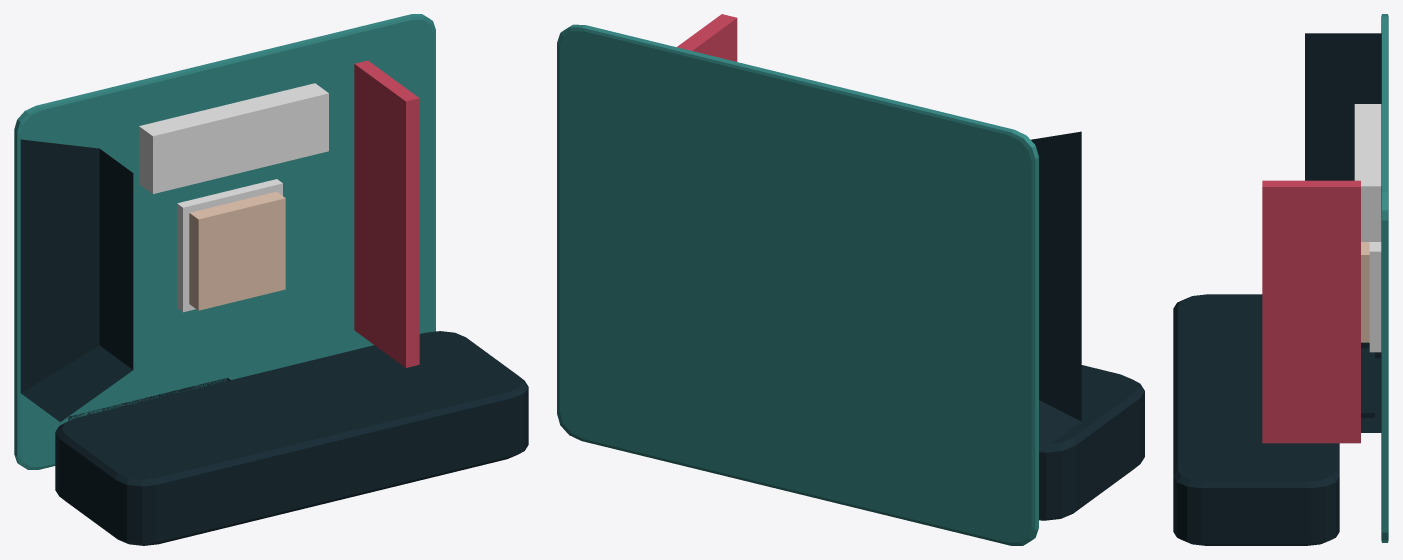
Rendered from computer.5b102dfe.glb.
The picture shows the model from 3 angles, left to right: view 1: azimuth 30°, elevation 25°; view 2: azimuth 150°, elevation 25°; view 3: azimuth 270°, elevation 25°; orthographic projection. The views are drawn at different scales.
Parts seen in each view (by area): view 1: motherboard, gpu, io, ram, ssd, cpu, motherboard-cpu-io; view 2: motherboard, io, gpu, ram; view 3: gpu, ram, io, motherboard, ssd, motherboard-gpu-io, motherboard-cpu-io, cpu.
Boxes of the visible parts, x1,y1,x2,y2 form: motherboard: (14,14,435,469); gpu: (55,331,528,545); io: (20,139,133,421); ram: (354,60,419,367); ssd: (139,83,328,193); cpu: (189,191,285,310); motherboard-cpu-io: (177,179,282,312); motherboard: (557,24,1038,545); io: (1031,131,1081,452); gpu: (1039,365,1144,520); ram: (677,14,737,61); gpu: (1173,294,1339,545); ram: (1262,180,1360,443); io: (1305,33,1381,180); motherboard: (1381,14,1388,542); ssd: (1354,104,1381,241); motherboard-gpu-io: (1361,342,1381,432); motherboard-cpu-io: (1369,242,1381,352); cpu: (1361,242,1369,342).
Bounding box in the file's own units: 0.23 × 0.19 × 0.1068.
